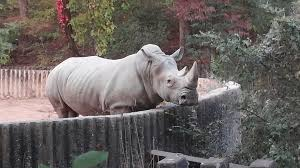Rhinoceros: (45, 41, 203, 124)
